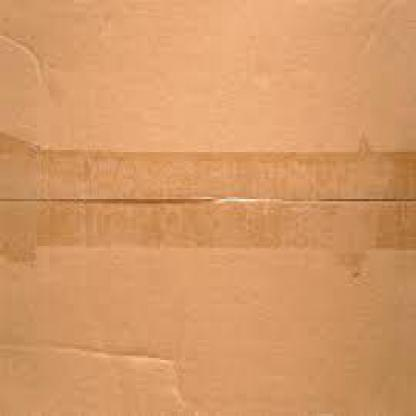CARDBOARD: (0, 0, 415, 415), (0, 197, 415, 415), (0, 0, 415, 198)
